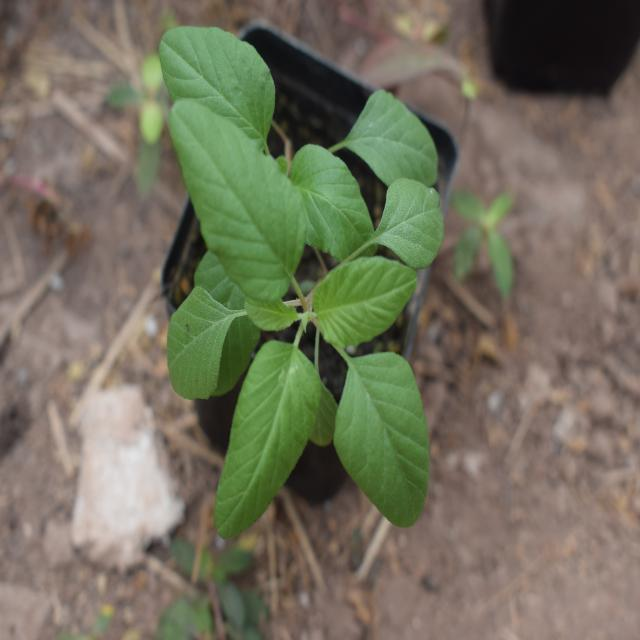pigweed: (152, 42, 440, 532)
